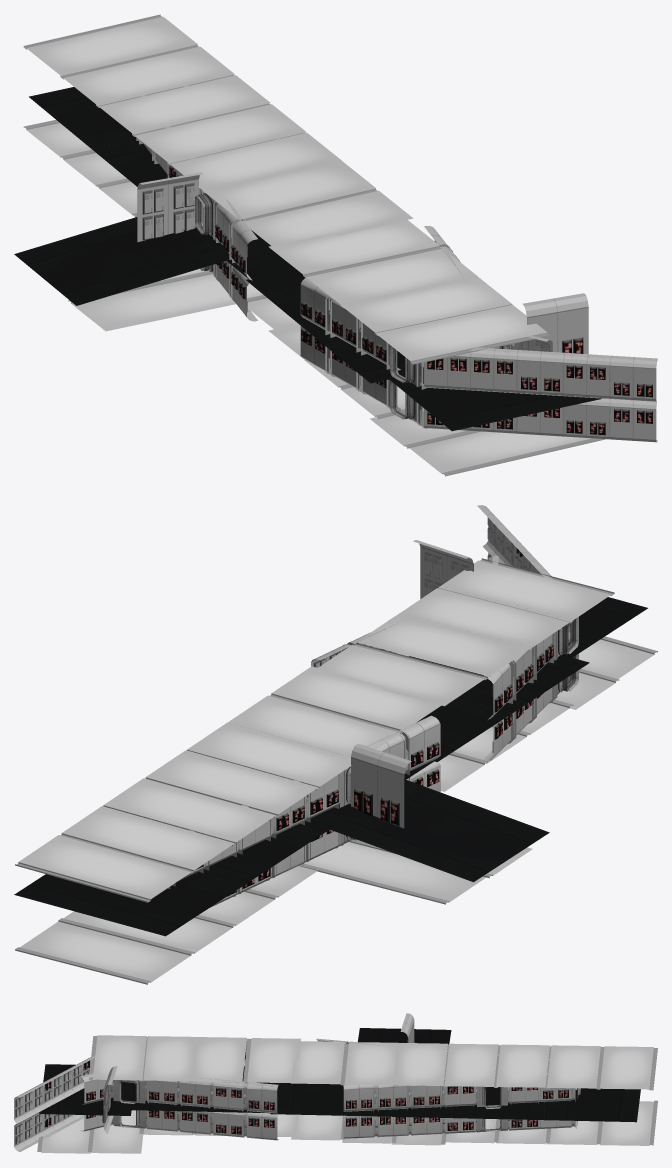
File: env_blockade_runner_pre.glb
The picture shows the model from 3 angles, top to bottom: view 1: azimuth 30°, elevation 25°; view 2: azimuth 150°, elevation 25°; view 3: azimuth 270°, elevation 25°; orthographic projection. The views are drawn at different scales.
Parts seen in each view (by area): view 1: brun_ceiling_mesh (5) (×3), brun_ceiling_mesh (3) (×3), brun_ceiling_mesh (6) (×3), brun_ceiling_mesh (4) (×3), jeditemplehall_floor_04_mesh (6), brun_ceiling_mesh (×2), brun_ceiling_mesh (1) (×2), jeditemplehall_floor_04_mesh (4) (×2), brun_wall_07_mesh (2) (×2), brun_ceiling_mesh (2) (×2), brun_ceiling_mesh (7), brun_wall_07_mesh (4) (×3) (+13 smaller); view 2: brun_ceiling_mesh (4) (×3), brun_ceiling_mesh (3) (×4), brun_ceiling_mesh (6) (×3), brun_ceiling_mesh (×2), brun_ceiling_mesh (5) (×3), jeditemplehall_floor_04_mesh (6), brun_ceiling_mesh (1) (×2), brun_ceiling_mesh (2) (×2), jeditemplehall_floor_04_mesh (8), brun_wall_07_mesh (2) (×2), jeditemplehall_floor_04_mesh (4) (×2), jeditemplehall_floor_04_mesh (5) (×2) (+8 smaller); view 3: brun_ceiling_mesh (3) (×4), brun_ceiling_mesh (6) (×4), brun_ceiling_mesh (4) (×4), brun_ceiling_mesh (5) (×3), brun_ceiling_mesh (×2), jeditemplehall_floor_04_mesh (4) (×2), brun_ceiling_mesh (1) (×2), brun_ceiling_mesh (2) (×2), brun_wall_05_mesh (1) (×4), jeditemplehall_floor_04_mesh (8), jeditemplehall_floor_04_mesh (7), brun_wall_02_mesh (23) (×2) (+18 smaller).
Part boxes in pixels (x1,y1,x2,y2): brun_ceiling_mesh (5) (×3): (68, 160, 477, 331); brun_ceiling_mesh (3) (×3): (132, 103, 550, 448); brun_ceiling_mesh (6) (×3): (239, 188, 441, 331); brun_ceiling_mesh (4) (×3): (167, 132, 512, 418); jeditemplehall_floor_04_mesh (6): (14, 217, 229, 305); brun_ceiling_mesh (×2): (23, 14, 197, 157); brun_ceiling_mesh (1) (×2): (60, 44, 234, 187); jeditemplehall_floor_04_mesh (4) (×2): (91, 139, 602, 431); brun_wall_07_mesh (2) (×2): (137, 172, 588, 354); brun_ceiling_mesh (2) (×2): (96, 74, 270, 215); brun_ceiling_mesh (7): (409, 431, 605, 476); brun_wall_07_mesh (4) (×3): (332, 299, 564, 436); brun_ceiling_mesh (4) (×3): (187, 588, 573, 904); brun_ceiling_mesh (3) (×4): (145, 558, 619, 899); brun_ceiling_mesh (6) (×3): (270, 643, 487, 791); brun_ceiling_mesh (×2): (15, 835, 190, 984); brun_ceiling_mesh (5) (×3): (228, 615, 532, 763); jeditemplehall_floor_04_mesh (6): (323, 780, 549, 882); brun_ceiling_mesh (1) (×2): (58, 806, 234, 955); brun_ceiling_mesh (2) (×2): (103, 778, 275, 927); jeditemplehall_floor_04_mesh (8): (14, 873, 241, 936); brun_wall_07_mesh (2) (×2): (351, 540, 473, 828); jeditemplehall_floor_04_mesh (4) (×2): (195, 597, 647, 886); jeditemplehall_floor_04_mesh (5) (×2): (289, 655, 589, 836); brun_ceiling_mesh (3) (×4): (87, 1035, 500, 1153); brun_ceiling_mesh (6) (×4): (243, 1038, 348, 1140); brun_ceiling_mesh (4) (×4): (139, 1036, 448, 1145); brun_ceiling_mesh (5) (×3): (189, 1037, 398, 1143); brun_ceiling_mesh (×2): (600, 1046, 657, 1145); jeditemplehall_floor_04_mesh (4) (×2): (39, 1064, 547, 1120); brun_ceiling_mesh (1) (×2): (547, 1045, 604, 1144); brun_ceiling_mesh (2) (×2): (496, 1044, 551, 1144); brun_wall_05_mesh (1) (×4): (213, 1078, 475, 1137); jeditemplehall_floor_04_mesh (8): (545, 1088, 640, 1122); jeditemplehall_floor_04_mesh (7): (270, 1083, 362, 1115); brun_wall_02_mesh (23) (×2): (246, 1082, 278, 1140).
Size of the model in its own units: 25.35 by 7.31 by 63.82.
Materials: 7 (7 with a texture image).
